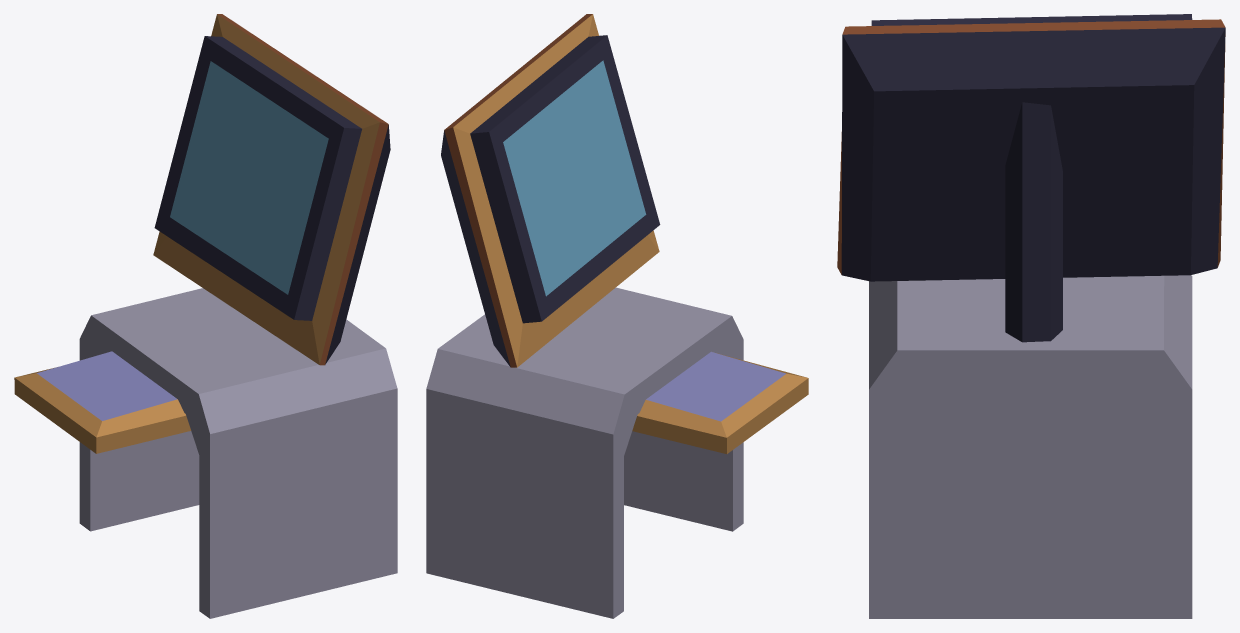
The model's file is RegisterSelfscan.fbx.
The picture shows the model from 3 angles, left to right: view 1: azimuth 30°, elevation 25°; view 2: azimuth 150°, elevation 25°; view 3: azimuth 270°, elevation 25°; orthographic projection. The views are drawn at different scales.
Visible parts, largest first — view 1: RegisterSelfScan; view 2: RegisterSelfScan; view 3: RegisterSelfScan.
Part boxes in pixels (x1,y1,x2,y2): RegisterSelfScan: (14,14,397,618); RegisterSelfScan: (426,14,808,618); RegisterSelfScan: (837,14,1225,618).
Bounding box in the file's own units: 80.02 × 128 × 78.4.
